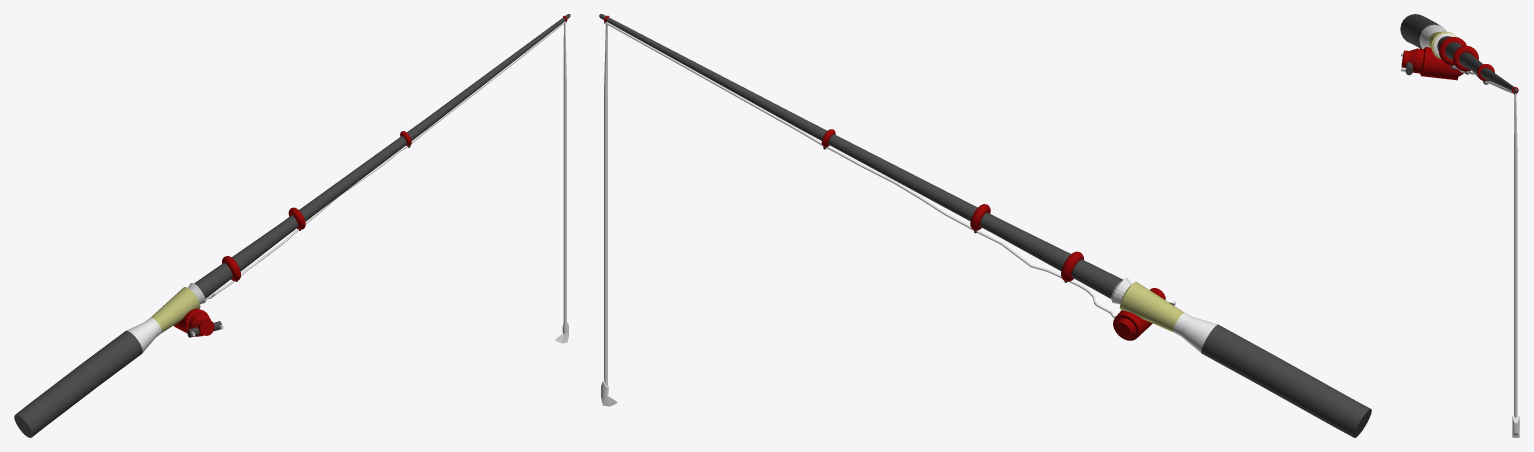
File: Fishing Rod (Stock).fbx
3 renders of one model, left to right at view 1: azimuth 30°, elevation 25°; view 2: azimuth 150°, elevation 25°; view 3: azimuth 270°, elevation 25°, orthographic. The views are drawn at different scales.
Visible parts, largest first — view 1: Rod1; view 2: Rod1; view 3: Rod1.
Part boxes in pixels (x1,y1,x2,y2): Rod1: (14,14,570,437); Rod1: (599,14,1371,437); Rod1: (1400,14,1519,437).
Bounding box in the file's own units: 3.67 × 1.91 × 0.5894.
